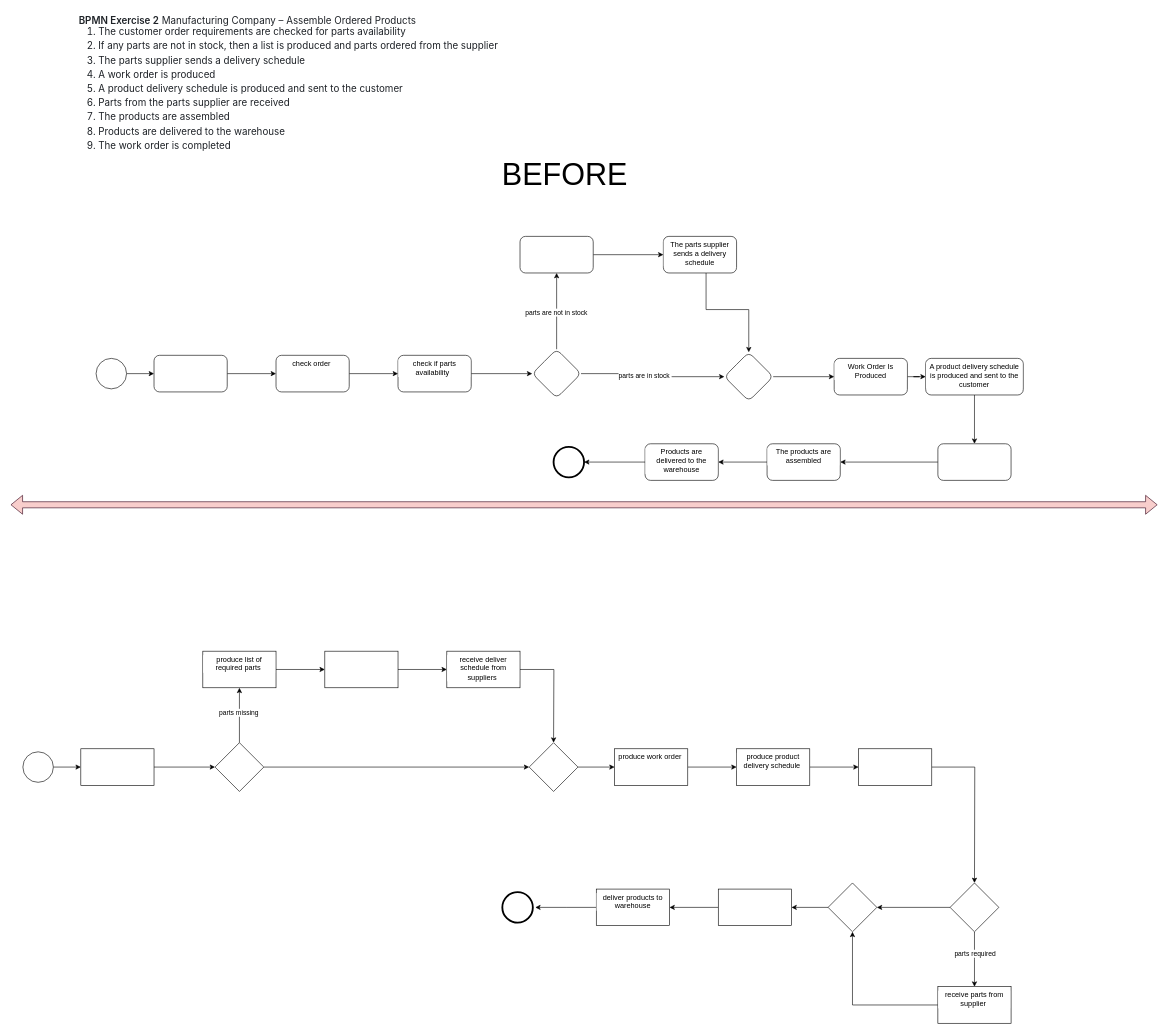
This 1168x1034 diagram has some shape labels left out. Here are the shapes that lost their labels. From the top down, the centre of each, then its label:
At pixel 556 254: "Supplier Sends Delivery Schedule".
At pixel 190 373: "receive customer order requirements".
At pixel 974 461: "Parts from the parts supplier are received".
At pixel 361 669: "send parts order to supplies".
At pixel 117 766: "check customer order for parts availability".
At pixel 895 766: "send delivery schedule to customer".
At pixel 754 907: "assemble products".
